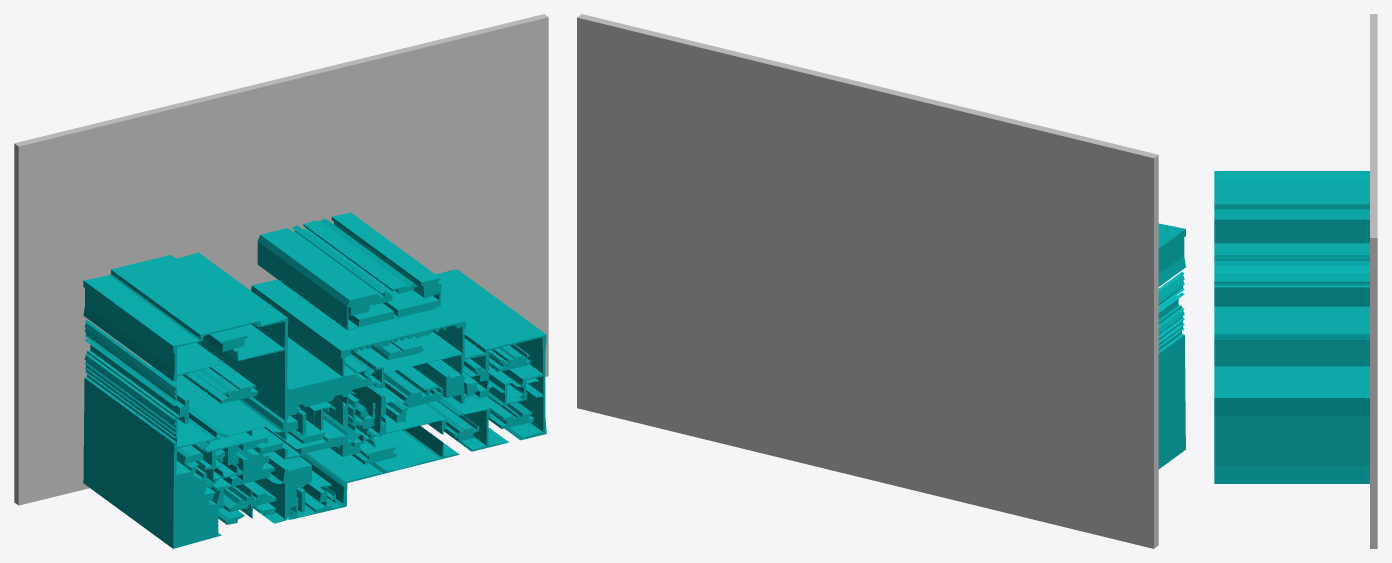
3 views of the same model, side by side, from view 1: azimuth 30°, elevation 25°; view 2: azimuth 150°, elevation 25°; view 3: azimuth 270°, elevation 25° (orthographic). The views are drawn at different scales.
Parts seen in each view (by area): view 1: world; view 2: world; view 3: world.
Part boxes in pixels (x1=…): world: x1=14, y1=14, x2=548, y2=548; world: x1=577, y1=14, x2=1185, y2=548; world: x1=1214, y1=14, x2=1377, y2=548.
Size of the model in its own units: 10.23 by 6.62 by 3.15.
